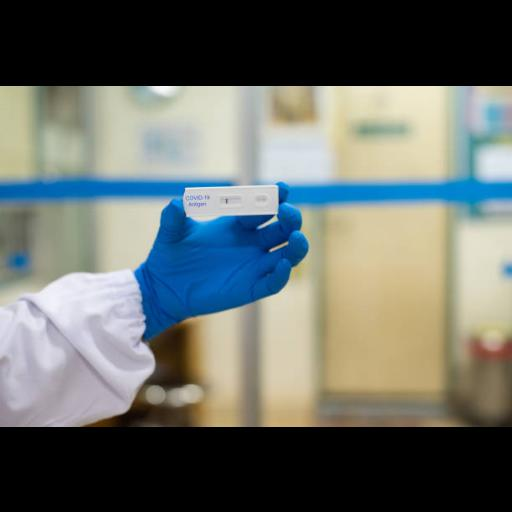Neg: (182, 186, 278, 212)
